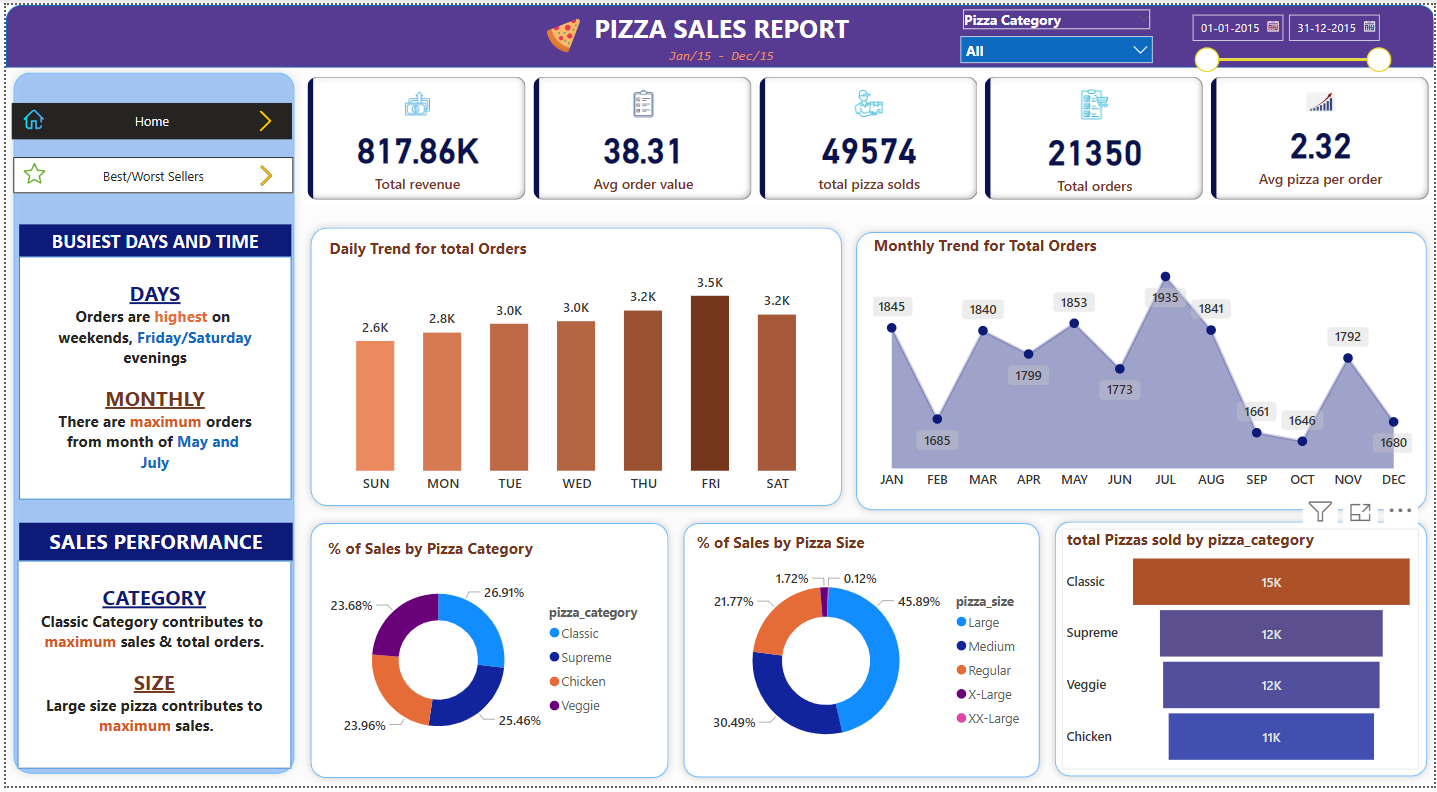

The page's visual inventory and layout, read from the dashboard file:
{"tool":"powerbi","page":{"name":"Home","canvas":[1500,820],"ordinal":0},"visuals":[{"type":"cardVisual","fields":{"Data":["pizza_sales.Total revenue","pizza_sales.Avg order value","pizza_sales.total pizza solds","pizza_sales.Total orders","pizza_sales.Avg pizza per order"]},"box":[311,71.2,1189,139.7],"z":0},{"type":"shape","box":[0,0,1500,65.8],"z":1000},{"type":"textbox","box":[608.2,1.6,286.9,47.5],"z":2000},{"type":"textbox","box":[678.7,37.7,144.3,32.8],"z":3000},{"type":"image","box":[552.5,9.8,65.6,45.9],"z":4000},{"type":"shape","box":[311,226,574,308.2],"z":5000},{"type":"columnChart","title":"Daily Trend for total Orders","fields":{"Category":["pizza_sales.order day"],"Y":["pizza_sales.Total orders"]},"box":[334.2,243.8,530.1,278.1],"z":6000},{"type":"shape","box":[884.9,230.1,615.1,308.2],"z":7000},{"type":"areaChart","title":"Monthly Trend for Total Orders","fields":{"Category":["pizza_sales.order month"],"Y":["pizza_sales.Total orders"]},"box":[905.5,241.1,575.3,276.7],"z":8000},{"type":"shape","box":[311.5,536.1,391.8,283.6],"z":9000},{"type":"shape","box":[1093.2,534.2,406.8,283.6],"z":10000},{"type":"shape","box":[702.8,536.6,390.1,283.1],"z":11000},{"type":"donutChart","title":"% of Sales by Pizza Category","fields":{"Category":["pizza_sales.pizza_category"],"Y":["pizza_sales.Total revenue"]},"box":[333.8,559.2,350.7,236.6],"z":12000},{"type":"donutChart","title":"% of Sales by Pizza Size","fields":{"Y":["pizza_sales.Total revenue"],"Category":["pizza_sales.pizza_size"]},"box":[719.7,553.5,362,250.7],"z":13000},{"type":"funnel","title":"total Pizzas sold by pizza_category","fields":{"Category":["pizza_sales.pizza_category"],"Y":["pizza_sales.total pizza solds"]},"box":[1108.2,549.3,375.3,253.4],"z":14000},{"type":"shape","box":[0,63,311,752.1],"z":15000},{"type":"textbox","box":[14.1,229.6,285.9,36.6],"z":16000},{"type":"textbox","box":[14.1,263.4,285.9,254.9],"z":17000},{"type":"textbox","box":[14.1,543.7,287.3,39.4],"z":18000},{"type":"textbox","box":[12.7,583.1,287.3,218.3],"z":19000},{"type":"slicer","fields":{"Values":["pizza_sales.pizza_category"]},"box":[991.8,0,221.9,63],"z":20000},{"type":"slicer","fields":{"Values":["pizza_sales.order_date"]},"box":[1232.9,0,230.1,89],"z":21000},{"type":"pageNavigator","box":[5.6,102.8,294.4,38],"z":22000},{"type":"pageNavigator","box":[7,159.2,294.4,38],"z":23000},{"type":"image","box":[256.3,102.8,32.4,38],"z":24000},{"type":"image","box":[257.7,159.2,31,39.4],"z":25000},{"type":"image","box":[14.1,100,31,40.8],"z":26000},{"type":"image","box":[14.1,156.3,32.4,40.8],"z":27000}]}

Visuals, with their boxes in screenshot pixels (x1, y1, x2, y2), scaled from the page's 1500x820 canvas onto the 1437x792 screenshot:
cardVisual - pizza_sales.Total revenue x pizza_sales.Avg order value: detection(298, 69, 1436, 204)
shape: detection(0, 0, 1436, 64)
textbox: detection(583, 2, 858, 47)
textbox: detection(650, 36, 788, 68)
image: detection(529, 9, 592, 54)
shape: detection(298, 218, 848, 516)
"Daily Trend for total Orders" columnChart: detection(320, 235, 828, 504)
shape: detection(848, 222, 1436, 520)
"Monthly Trend for Total Orders" areaChart: detection(867, 233, 1419, 500)
shape: detection(298, 518, 674, 791)
shape: detection(1047, 516, 1436, 790)
shape: detection(673, 518, 1047, 791)
"% of Sales by Pizza Category" donutChart: detection(320, 540, 656, 769)
"% of Sales by Pizza Size" donutChart: detection(689, 535, 1036, 777)
"total Pizzas sold by pizza_category" funnel: detection(1062, 531, 1421, 775)
shape: detection(0, 61, 298, 787)
textbox: detection(14, 222, 287, 257)
textbox: detection(14, 254, 287, 501)
textbox: detection(14, 525, 289, 563)
textbox: detection(12, 563, 287, 774)
slicer - pizza_sales.pizza_category: detection(950, 0, 1163, 61)
slicer - pizza_sales.order_date: detection(1181, 0, 1402, 86)
pageNavigator: detection(5, 99, 287, 136)
pageNavigator: detection(7, 154, 289, 190)
image: detection(246, 99, 277, 136)
image: detection(247, 154, 277, 192)
image: detection(14, 97, 43, 136)
image: detection(14, 151, 45, 190)
